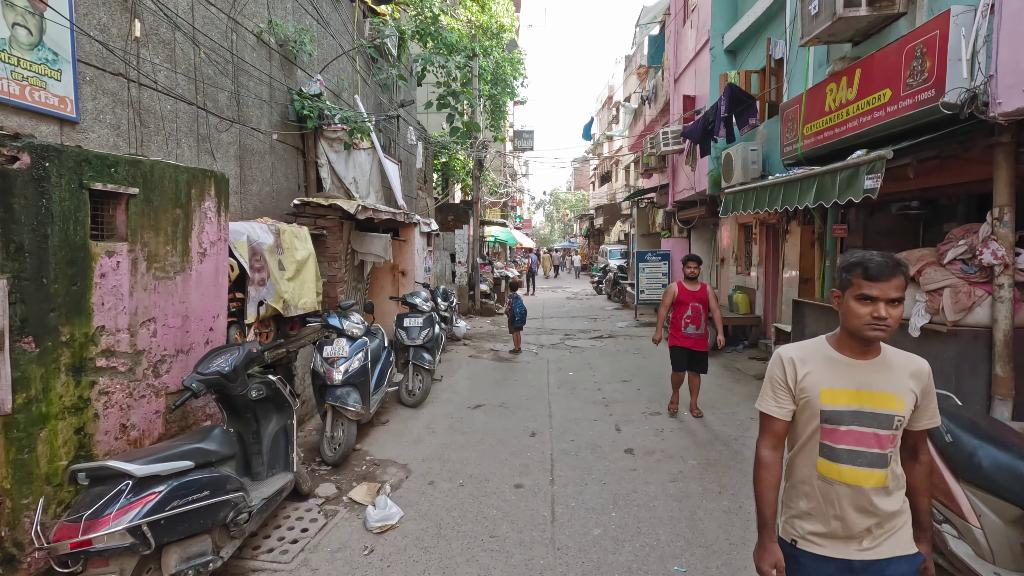garbage: (345, 485, 400, 537)
